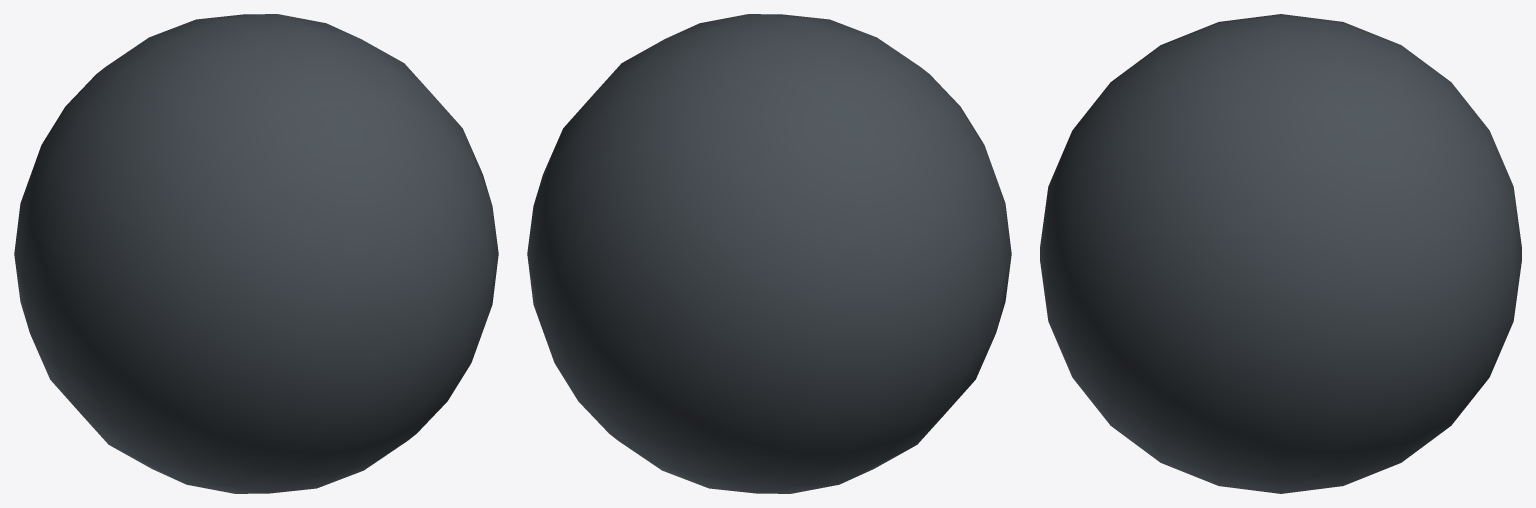
File: cannonBall.glb
The picture shows the model from 3 angles, left to right: view 1: azimuth 30°, elevation 25°; view 2: azimuth 150°, elevation 25°; view 3: azimuth 270°, elevation 25°; orthographic projection.
Visible parts, largest first — view 1: cannonBall; view 2: cannonBall; view 3: cannonBall.
Boxes of the visible parts, <box> form: cannonBall: <box>14,14,498,493</box>; cannonBall: <box>527,14,1011,493</box>; cannonBall: <box>1040,14,1521,493</box>.
Bounding box in the file's own units: 0.14 × 0.14 × 0.14.
Materials: 1 (1 with a texture image).
